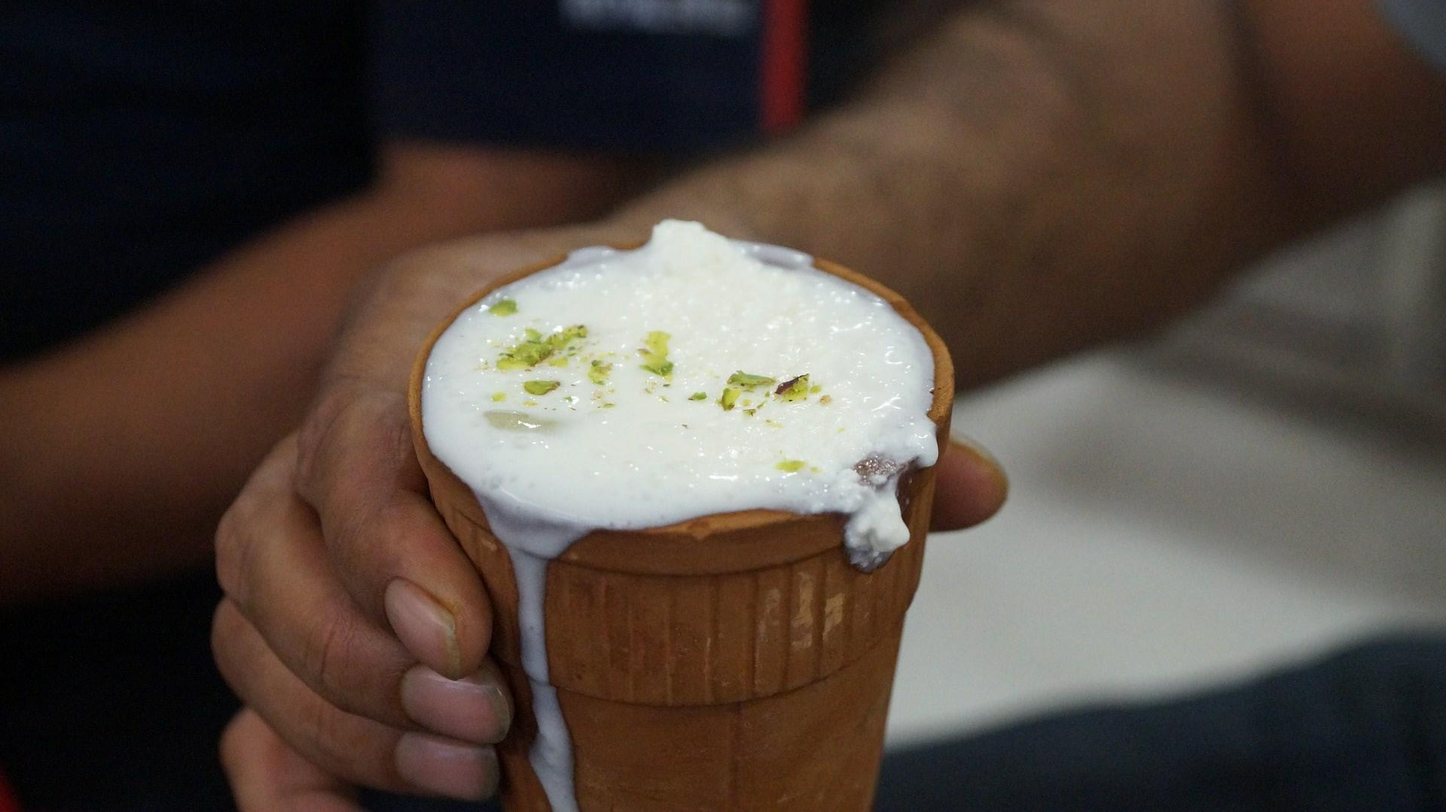Lassi: (424, 220, 937, 573)
